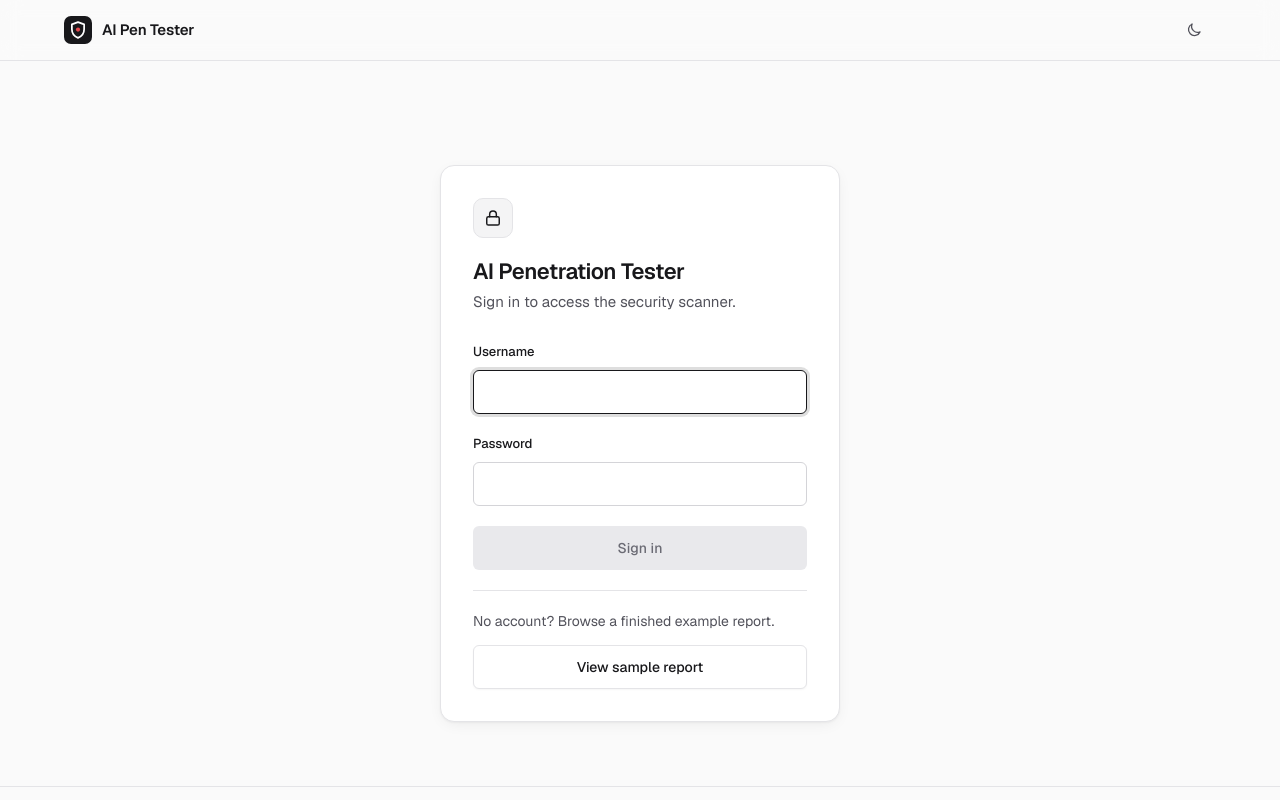
Scenario: login gate › rejects a wrong password and shows an error
Type "recruiter" into the field labelled "Username" at (640, 392), box left=473, top=370, right=807, bottom=414
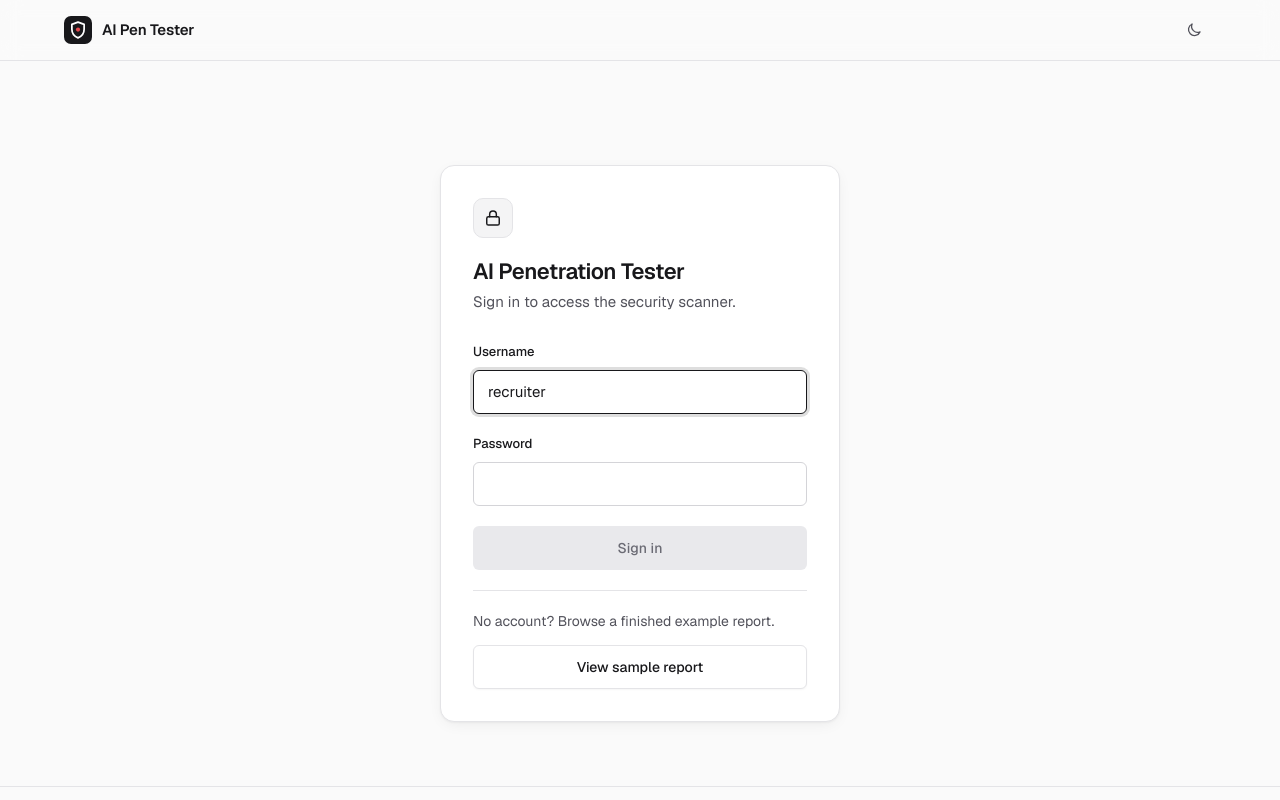
Type "wrong" into the password field labelled "Password" at (640, 484), box left=473, top=462, right=807, bottom=506
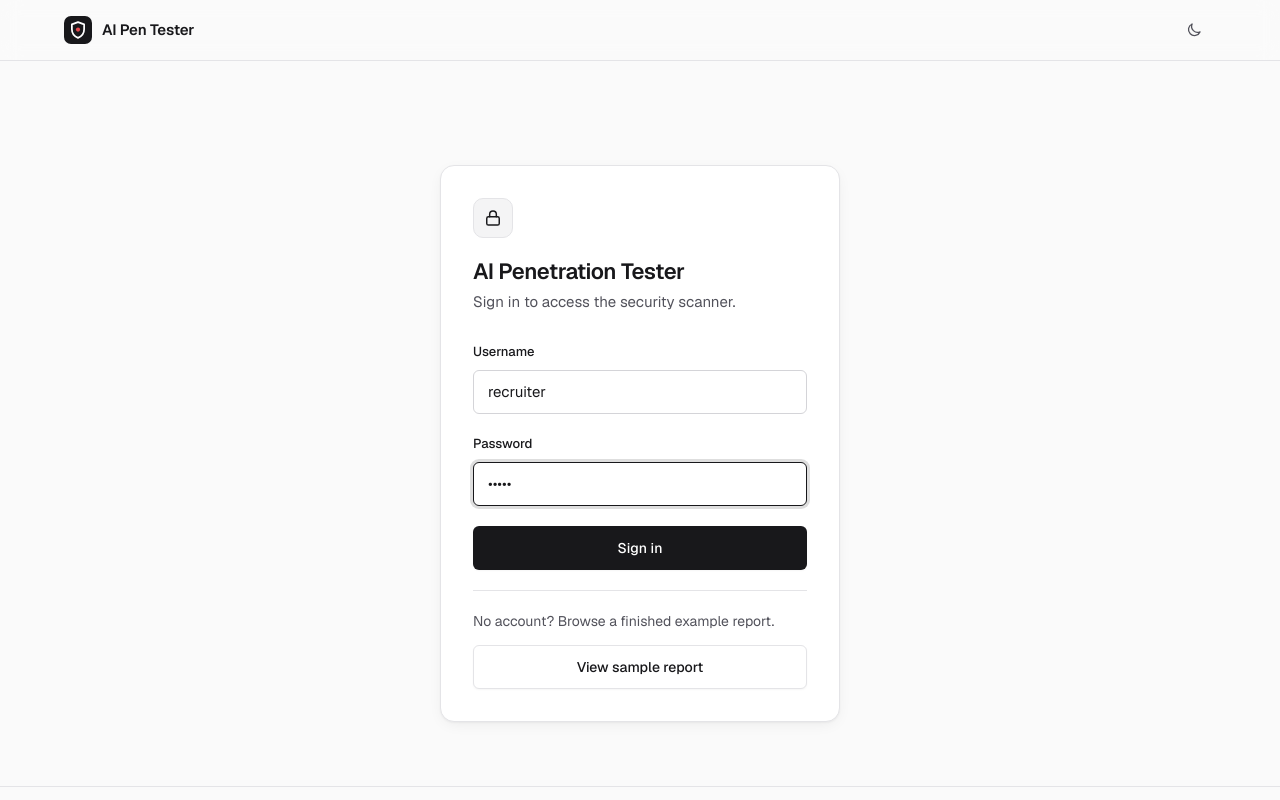
Click the button "Sign in" at (640, 548), box left=473, top=526, right=807, bottom=570
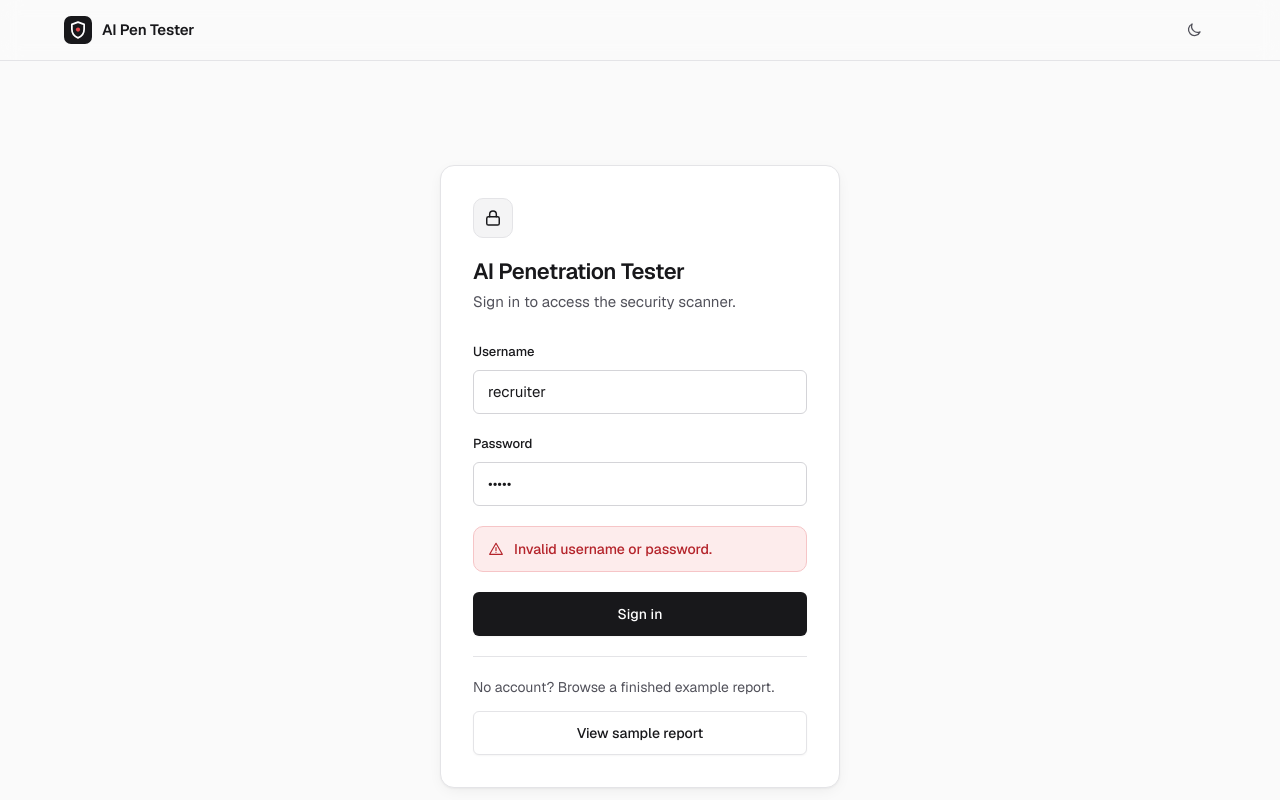
Expected: the message shows "Invalid username or password", left=514, top=540, right=712, bottom=558
